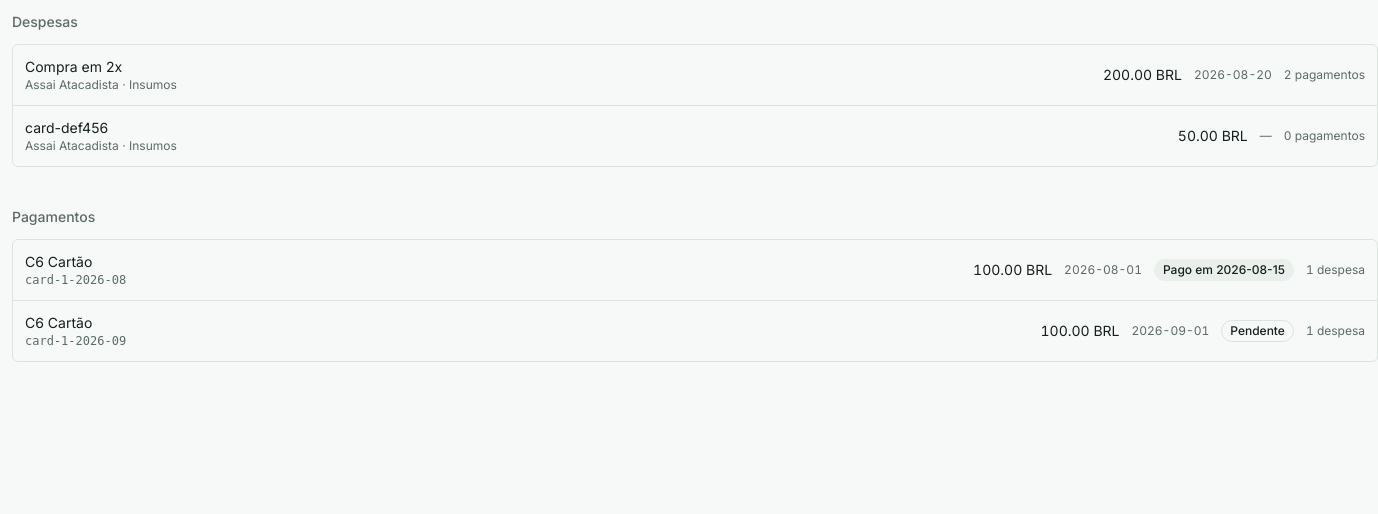
Test: opening an expense › lists every payment it is billed on, one row per installment
expect the heading "Despesas" is shown: met, box [12, 13, 78, 30]
Click the button "Compra em 2x".
click(74, 66)  # box [25, 53, 1365, 97]
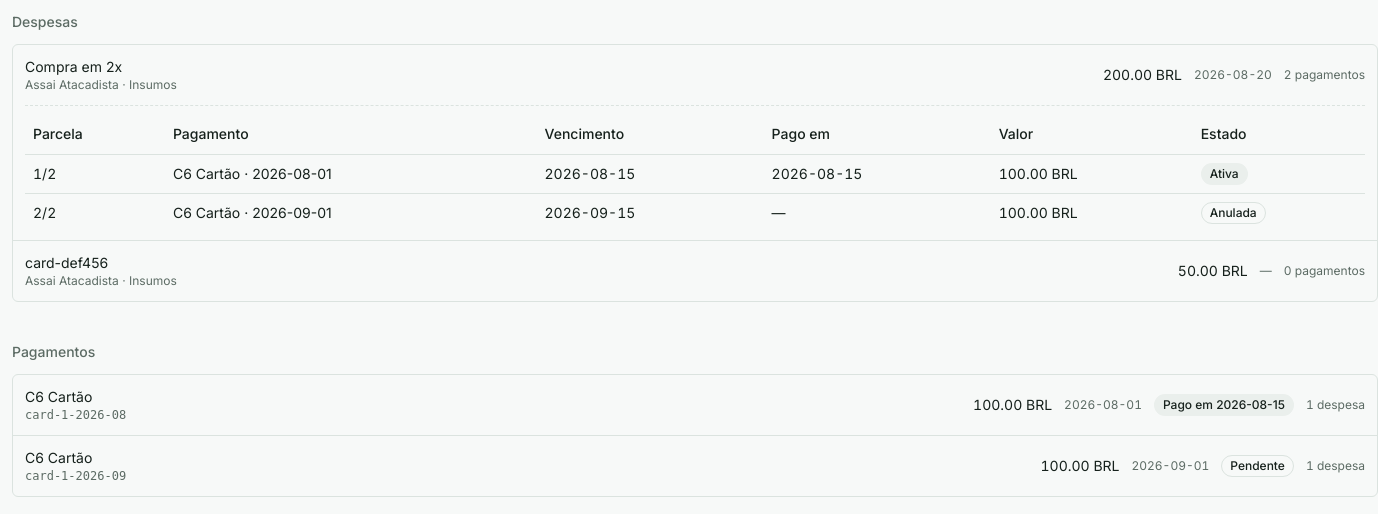
expect the text "1/2" is shown: met, box [25, 154, 165, 193]
expect the text "2/2" is shown: met, box [25, 193, 165, 232]
expect the text "C6 Cartão · 2026-08-01" is shown: met, box [165, 154, 536, 193]
